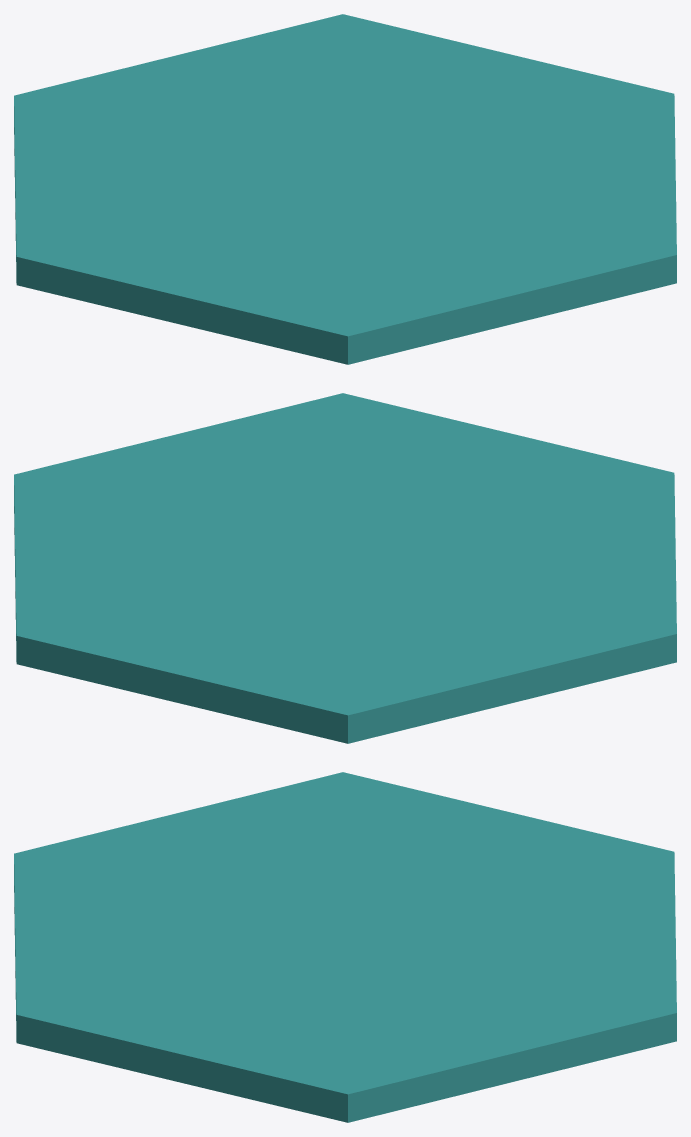
File: Planet_Water_Hexagon (1).fbx
The picture shows the model from 3 angles, top to bottom: view 1: azimuth 30°, elevation 25°; view 2: azimuth 150°, elevation 25°; view 3: azimuth 270°, elevation 25°; orthographic projection.
Parts seen in each view (by area): view 1: HexSea; view 2: HexSea; view 3: HexSea.
Part boxes in pixels (<box>): HexSea: <box>14,14,676,364</box>; HexSea: <box>14,393,676,743</box>; HexSea: <box>14,772,676,1122</box>.
Bounding box in the file's own units: 6.28 × 0.2585 × 5.46.
